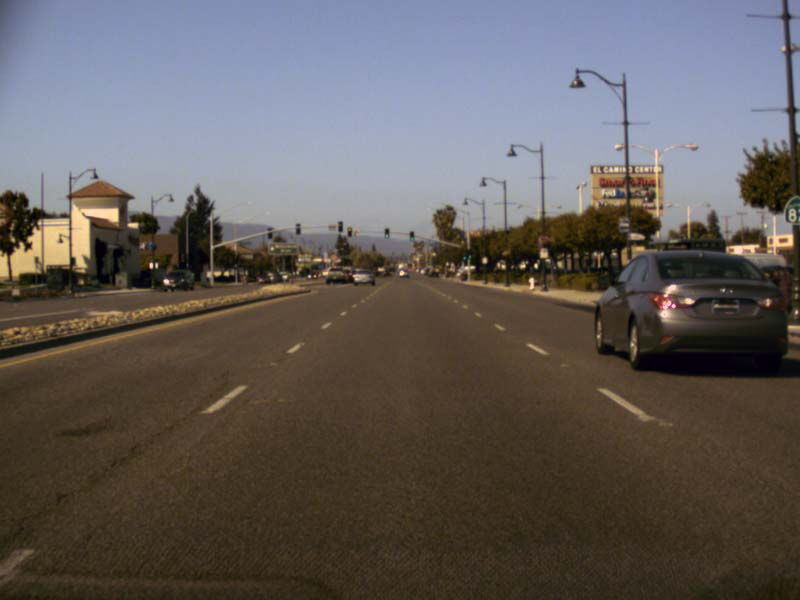Green: (384, 227, 390, 238), (460, 250, 466, 260), (409, 231, 414, 241), (466, 249, 471, 258)
Red: (347, 227, 352, 236)
